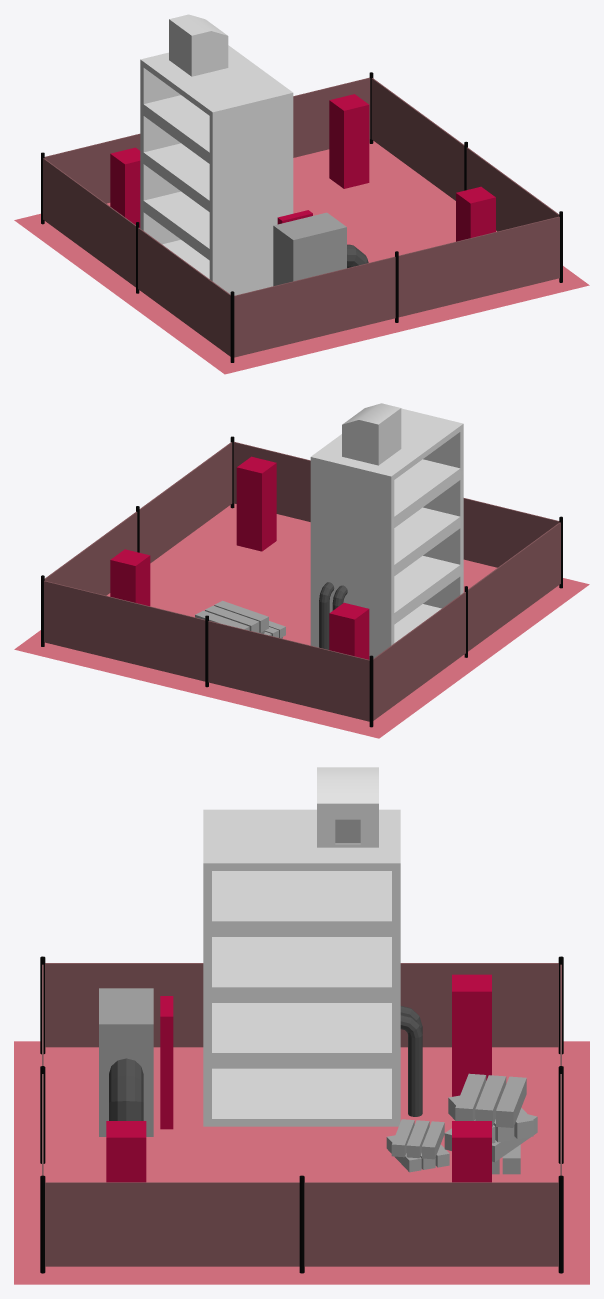
Rendered from 1010_pink.fbx.
The picture shows the model from 3 angles, top to bottom: view 1: azimuth 30°, elevation 25°; view 2: azimuth 150°, elevation 25°; view 3: azimuth 270°, elevation 25°; orthographic projection. The views are drawn at different scales.
Parts seen in each view (by area): view 1: pCube229, ten_ten5, pCube227, pCube228, pCube217, pCube222, pCube225, pCube233, pCube239, pCube226, pCube224, pCube241 (+3 smaller); view 2: pCube229, ten_ten5, pCube224, pCube223, pCube217, pCube222, pCube226, pCube228, pCube238, pCube225, pCube241, pCube227 (+5 smaller); view 3: pCube229, ten_ten5, pCube225, pCube226, pCube222, pCube217, pCube233, pCube241, pCube240, pCube238, pCube239, pCylinder44 (+5 smaller).
Part boxes in pixels (x1,y1,x2,y2): pCube229: (140,45,293,295); ten_ten5: (14,139,589,374); pCube227: (398,216,559,317); pCube228: (234,256,395,357); pCube217: (138,227,230,356); pCube222: (43,158,135,287); pCube225: (371,78,464,200); pCube233: (273,212,346,286); pCube239: (329,94,369,188); pCube226: (466,147,559,231); pCube224: (293,77,370,157); pCube241: (169,14,228,76); pCube229: (310,408,463,659); ten_ten5: (14,503,589,738); pCube224: (44,580,205,681); pCube223: (208,621,369,721); pCube217: (468,522,560,651); pCube222: (373,592,465,720); pCube226: (139,442,232,563); pCube228: (463,498,559,567); pCube238: (236,456,276,551); pCube225: (44,511,137,595); pCube241: (342,403,401,465); pCube227: (233,442,310,521); pCube229: (203,809,400,1126); ten_ten5: (14,1041,589,1284); pCube225: (304,1182,558,1266); pCube226: (45,1182,299,1266); pCube222: (400,963,558,1047); pCube217: (45,963,203,1047); pCube233: (99,988,153,1136); pCube241: (317,767,378,847); pCube240: (452,974,491,1096); pCube238: (106,1121,146,1182); pCube239: (452,1121,491,1182); pCylinder44: (109,1058,143,1120).
Bounding box in the file's own units: 10 × 6.24 × 10.
